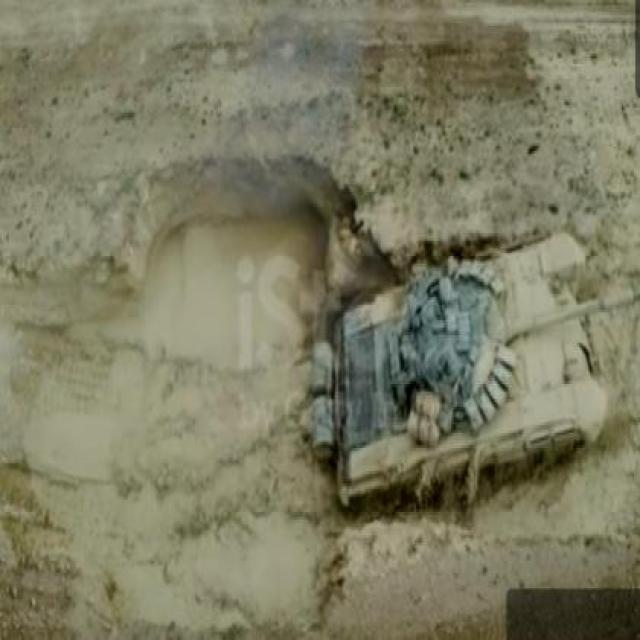tank: (309, 228, 640, 519)
